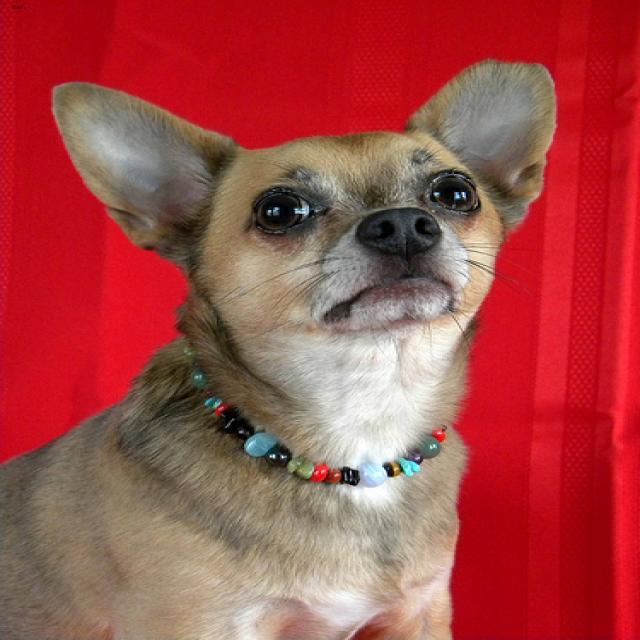dog-chihuahua: (2, 50, 565, 637)
